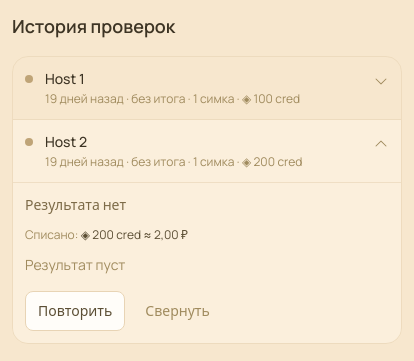
Scenario: RecentJobs › раскрывает задачу из ссылки и сворачивает по тапу
The width and height of the screenshot is (414, 361).
Expected: the text "Host 2" is shown, x1=45 y1=132 x2=87 y2=151
Expected: the text "◈ 200 cred ≈ 2,00 ₽" is shown, x1=81 y1=226 x2=188 y2=243
Click the button "Свернуть": (178, 311) x1=133 y1=291 x2=222 y2=331
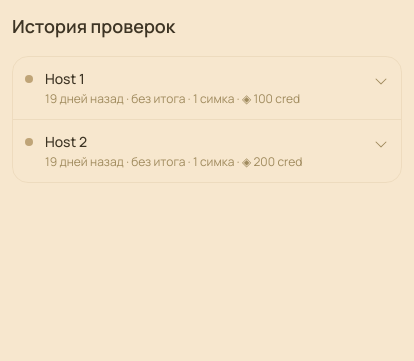
Expected: the text "◈ 200 cred ≈ 2,00 ₽" is gone
